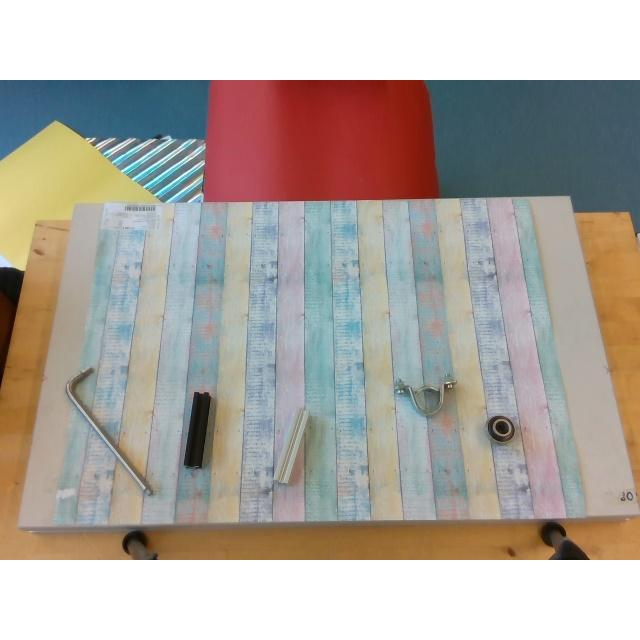AllenKey: (65, 367, 151, 495)
Bearing2: (487, 414, 515, 442)
F20_20_B: (182, 391, 214, 467)
F20_20_G: (274, 408, 310, 484)
Housing: (394, 378, 456, 416)
